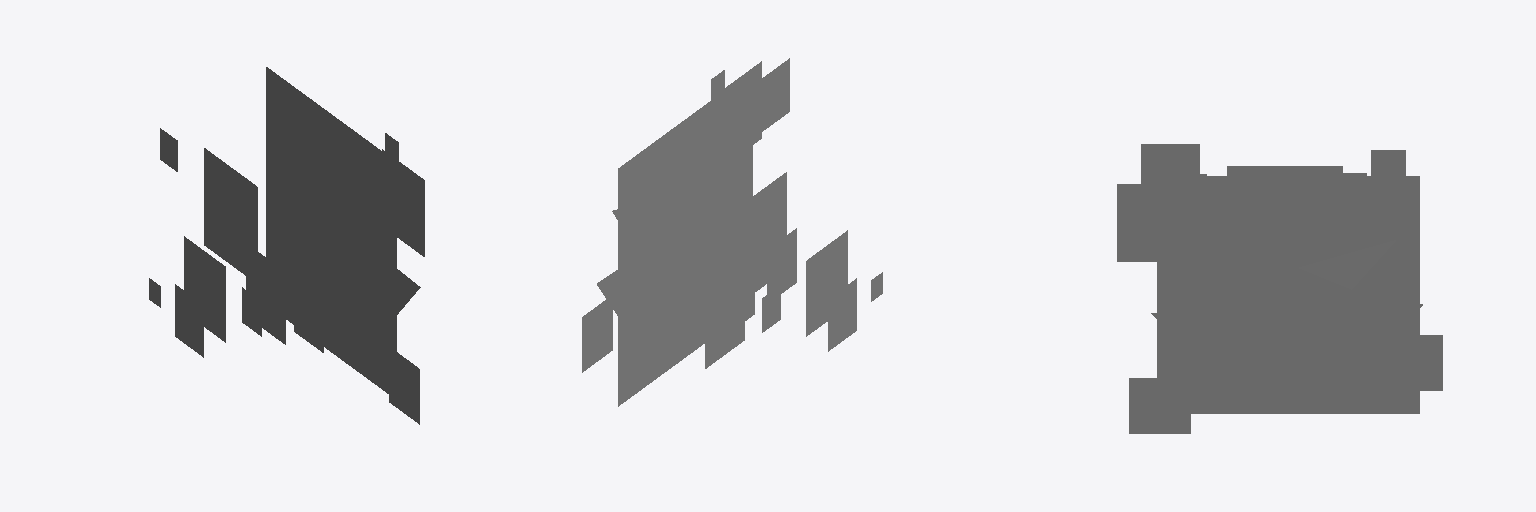
Rendered from gloo.obj.
3 views of the same model, side by side, from view 1: azimuth 30°, elevation 25°; view 2: azimuth 150°, elevation 25°; view 3: azimuth 270°, elevation 25° (orthographic).
Parts seen in each view (by area): view 1: Plane, Plane.008_Plane.009, Plane.012_Plane.013, Plane.014_Plane.015, Plane.007_Plane.008, Plane.002_Plane.003, Plane.011_Plane.012, Plane.006_Plane.007, Plane.009_Plane.010, Plane.010_Plane.011, Plane.016_Plane.017, Plane.004_Plane.005 (+3 smaller); view 2: Plane, Plane.008_Plane.009, Plane.012_Plane.013, Plane.014_Plane.015, Plane.011_Plane.012, Plane.006_Plane.007, Plane.001_Plane.002, Plane.010_Plane.011, Plane.016_Plane.017, Plane.009_Plane.010, Plane.002_Plane.003, Plane.017_Plane.018 (+1 smaller); view 3: Plane, Plane.021_Plane.023, Plane.002_Plane.003, Plane.001_Plane.002, Plane.004_Plane.005, Plane.010_Plane.011, Plane.019_Plane.021, Plane.020_Plane.022, Plane.008_Plane.009, Plane.015_Plane.016, Plane.003_Plane.004.
Boxes of the visible parts, box(x1,y1,x2,y2) form: Plane: box(266, 67, 396, 399); Plane.008_Plane.009: box(266, 113, 324, 260); Plane.012_Plane.013: box(204, 148, 257, 283); Plane.014_Plane.015: box(184, 236, 225, 342); Plane.007_Plane.008: box(345, 271, 379, 359); Plane.002_Plane.003: box(382, 149, 424, 256); Plane.011_Plane.012: box(246, 252, 285, 344); Plane.006_Plane.007: box(285, 232, 327, 334); Plane.009_Plane.010: box(294, 277, 323, 352); Plane.010_Plane.011: box(344, 139, 373, 213); Plane.016_Plane.017: box(175, 284, 203, 357); Plane.004_Plane.005: box(389, 352, 419, 424); Plane: box(618, 72, 749, 406); Plane.008_Plane.009: box(694, 116, 752, 263); Plane.012_Plane.013: box(733, 172, 786, 308); Plane.014_Plane.015: box(806, 230, 847, 336); Plane.011_Plane.012: box(705, 276, 744, 368); Plane.006_Plane.007: box(687, 239, 729, 341); Plane.001_Plane.002: box(582, 299, 612, 372); Plane.010_Plane.011: box(760, 58, 789, 132); Plane.016_Plane.017: box(828, 278, 856, 351); Plane.009_Plane.010: box(767, 228, 796, 293); Plane.002_Plane.003: box(719, 61, 761, 144); Plane.017_Plane.018: box(762, 285, 780, 332); Plane: box(1157, 176, 1419, 413); Plane.021_Plane.023: box(1151, 304, 1422, 404); Plane.002_Plane.003: box(1117, 184, 1202, 261); Plane.001_Plane.002: box(1381, 335, 1442, 390); Plane.004_Plane.005: box(1129, 378, 1190, 433); Plane.010_Plane.011: box(1141, 144, 1199, 183); Plane.019_Plane.021: box(1161, 241, 1259, 289); Plane.020_Plane.022: box(1299, 240, 1395, 289); Plane.008_Plane.009: box(1227, 166, 1342, 175); Plane.015_Plane.016: box(1371, 150, 1405, 175); Plane.003_Plane.004: box(1181, 174, 1206, 197).
Size of the model in its own units: 1.84 by 2.27 by 2.47.